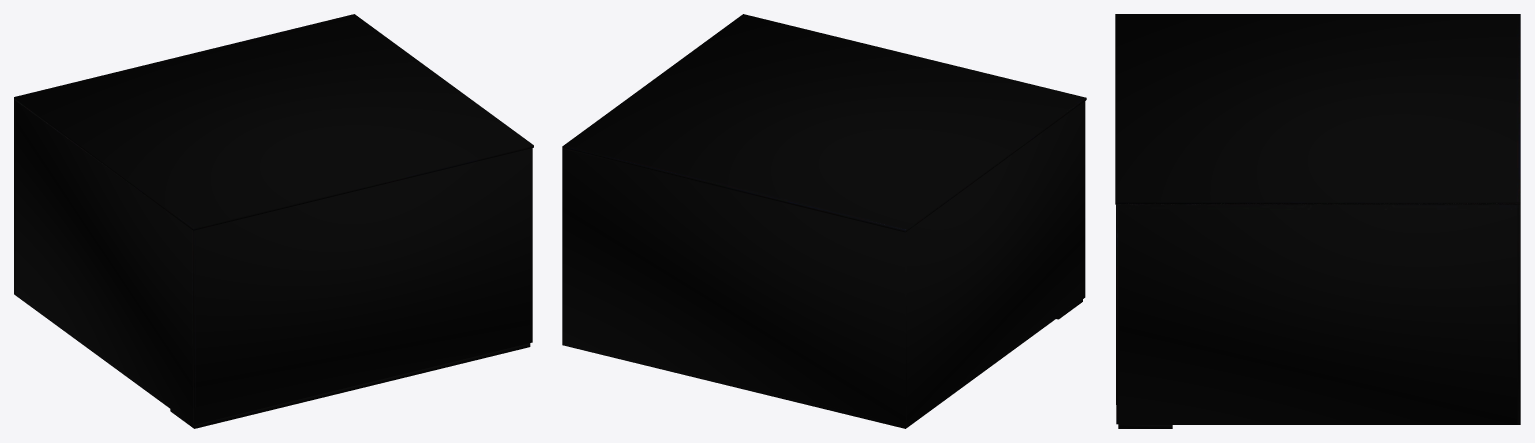
File: hall_imax_glow.glb
3 views of the same model, side by side, from view 1: azimuth 30°, elevation 25°; view 2: azimuth 150°, elevation 25°; view 3: azimuth 270°, elevation 25° (orthographic). The views are drawn at different scales.
Visible parts, largest first — view 1: grand_shell, grand_ceiling, grand_floor; view 2: grand_shell, grand_ceiling; view 3: grand_shell, grand_ceiling.
Part boxes in pixels (bbox=[...]): grand_shell: bbox=[14, 99, 532, 424]; grand_ceiling: bbox=[14, 14, 533, 230]; grand_floor: bbox=[170, 343, 530, 428]; grand_shell: bbox=[562, 101, 1085, 428]; grand_ceiling: bbox=[562, 14, 1086, 232]; grand_shell: bbox=[1116, 204, 1520, 424]; grand_ceiling: bbox=[1115, 14, 1520, 204].
Size of the model in its own units: 44.6 by 25.3 by 40.7.
Materials: 5 (5 with a texture image).
